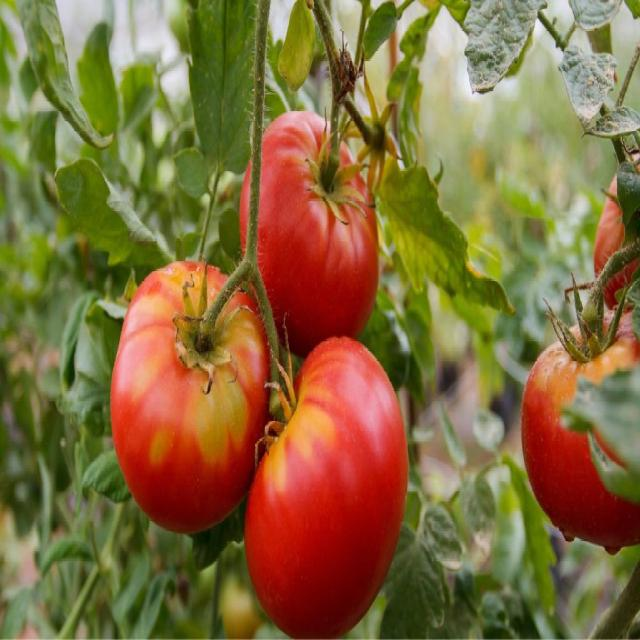Healthy: (238, 109, 380, 358)
